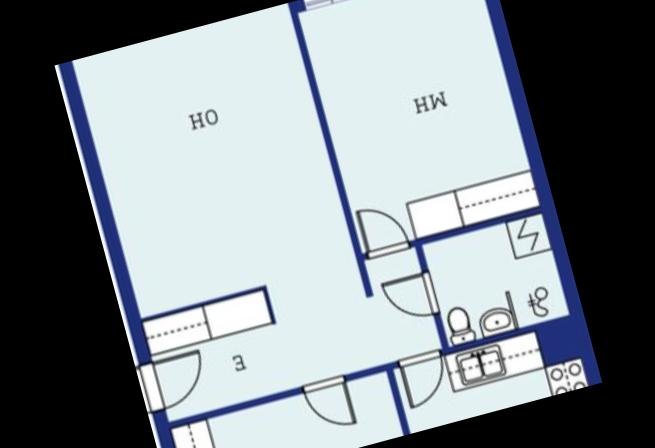door: (139, 344, 213, 412), (296, 368, 362, 438), (392, 344, 455, 414), (351, 196, 413, 264), (377, 266, 444, 328)
window: (294, 0, 483, 16)
